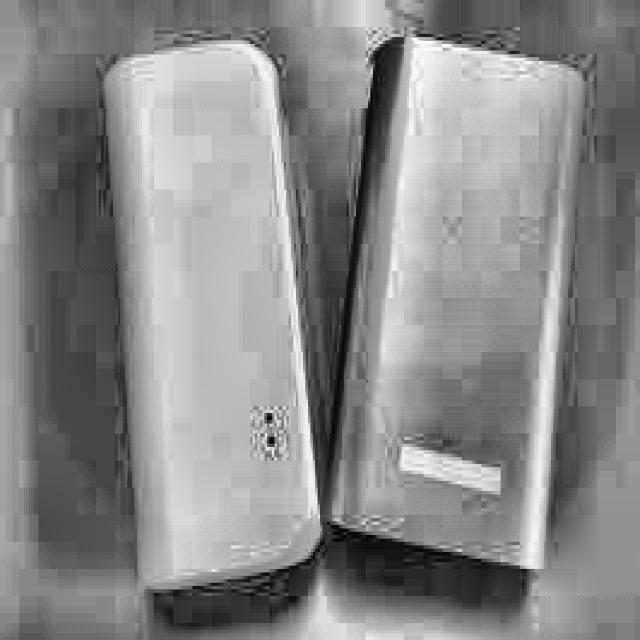Battery: (328, 32, 574, 557), (111, 44, 320, 582)
